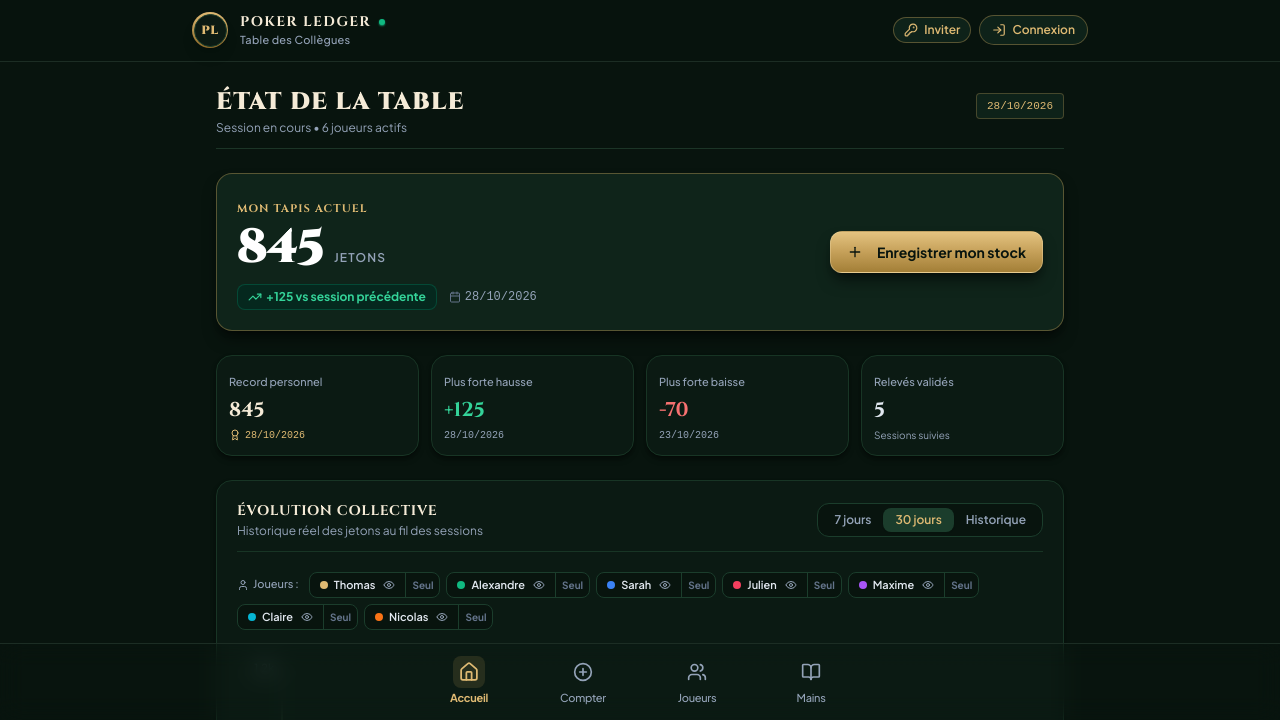
Test: App - Shell responsive et navigation › navigue vers l’onglet Joueurs et affiche la liste des membres
The width and height of the screenshot is (1280, 720).
Click the button "Joueurs" at coordinates (697, 681), box [644,652,750,710]
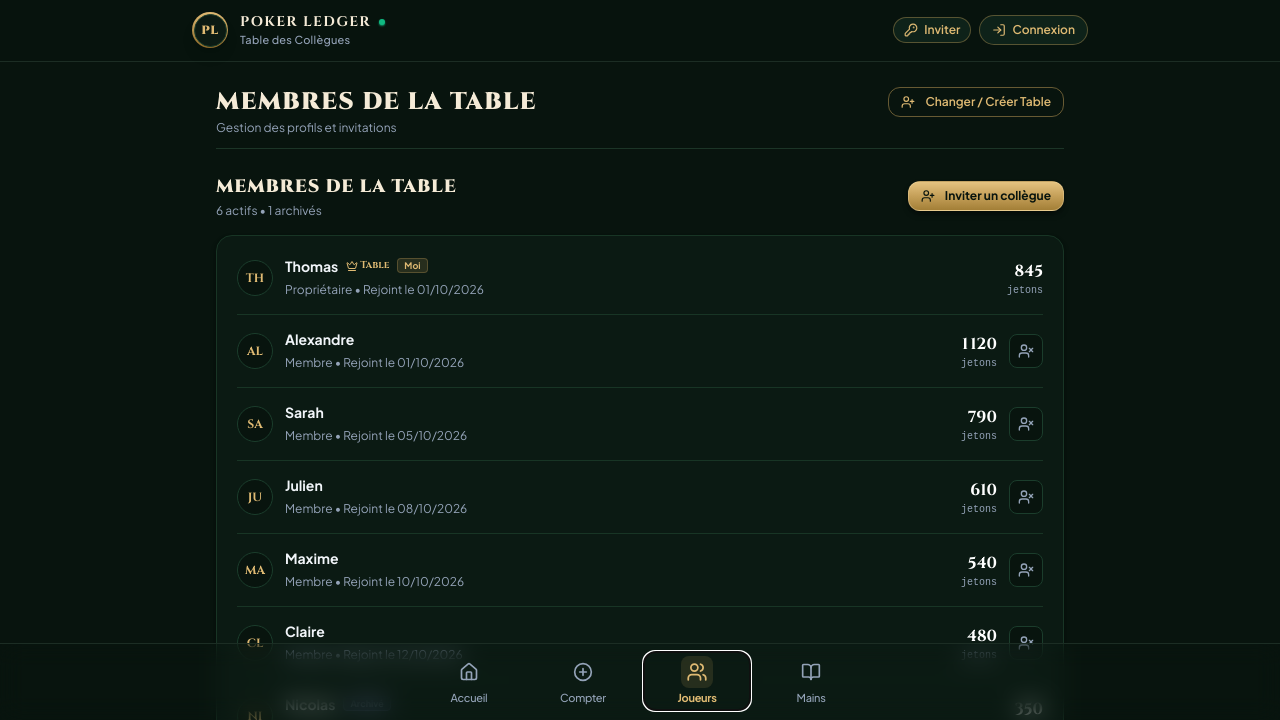
Expected: the text "Nicolas" is shown, [285,694,335,714]
Expected: the heading "Membres de la Table" is shown, [216,86,537,118]
